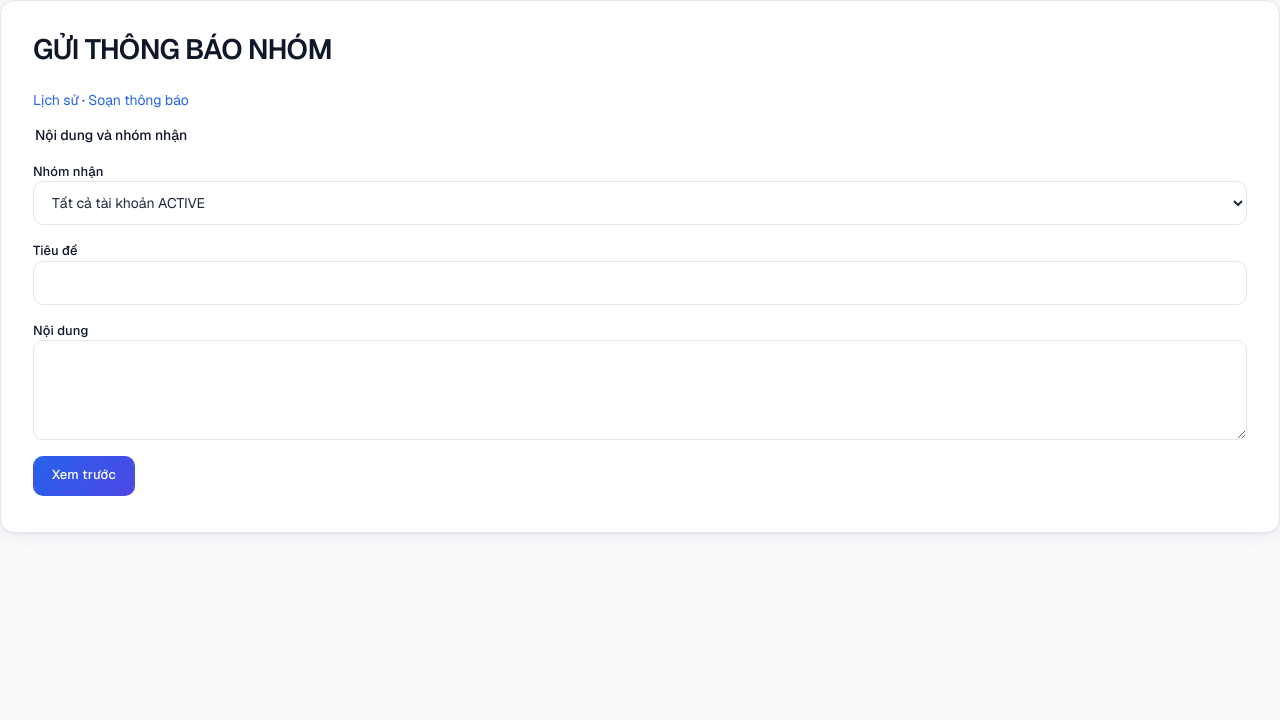
Test: US-48: giao diện preview/confirm/resolve › chặn gửi hết hạn
Type "<b>Lịch</b>" into the field labelled "Tiêu đề" at coordinates (640, 283), box [33,261,1247,305]
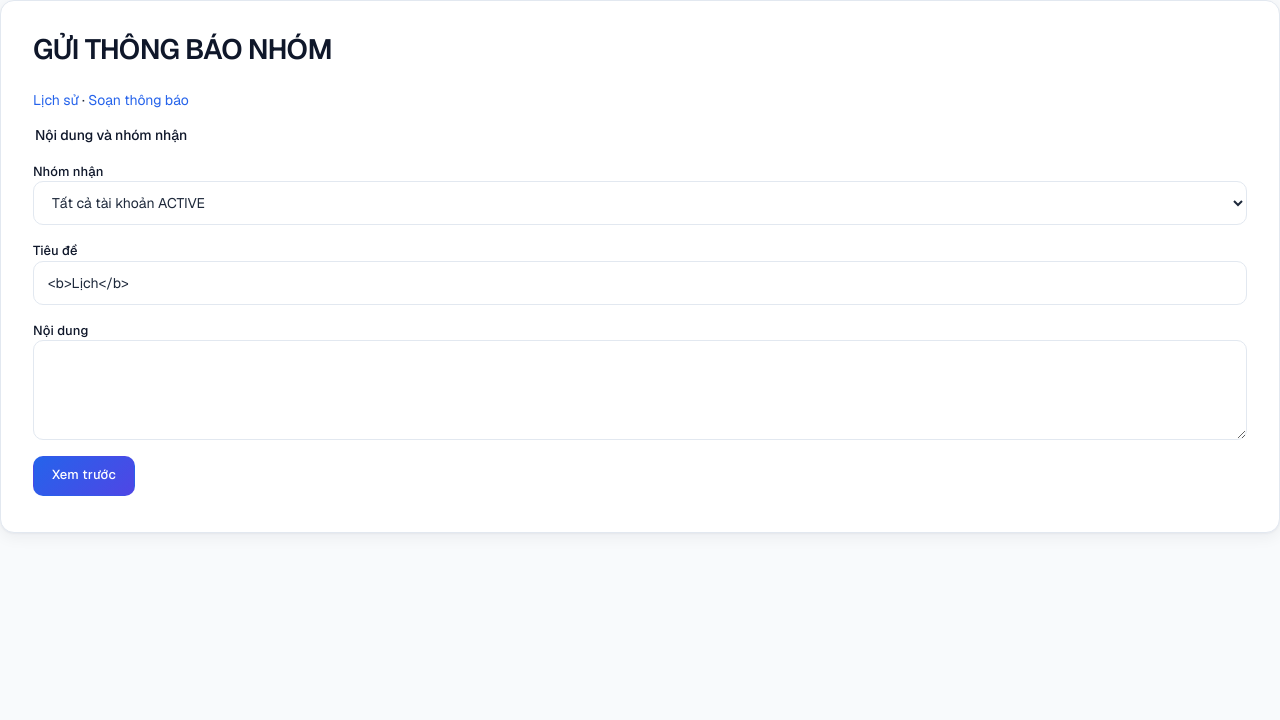
Type "<script>bad()</script>" into the text box labelled "Nội dung" at coordinates (640, 390), box [33,340,1247,440]
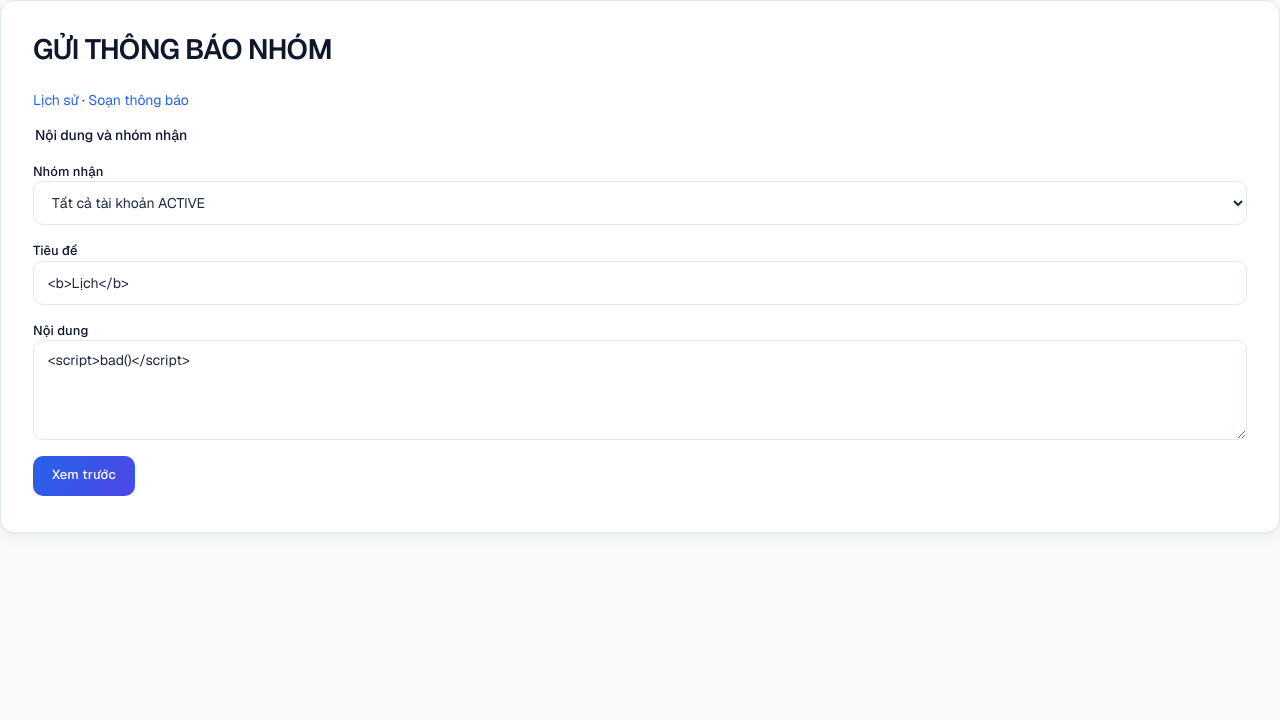
Click the button "Xem trước" at coordinates (84, 476), box [33,456,135,496]
(page scrolled)
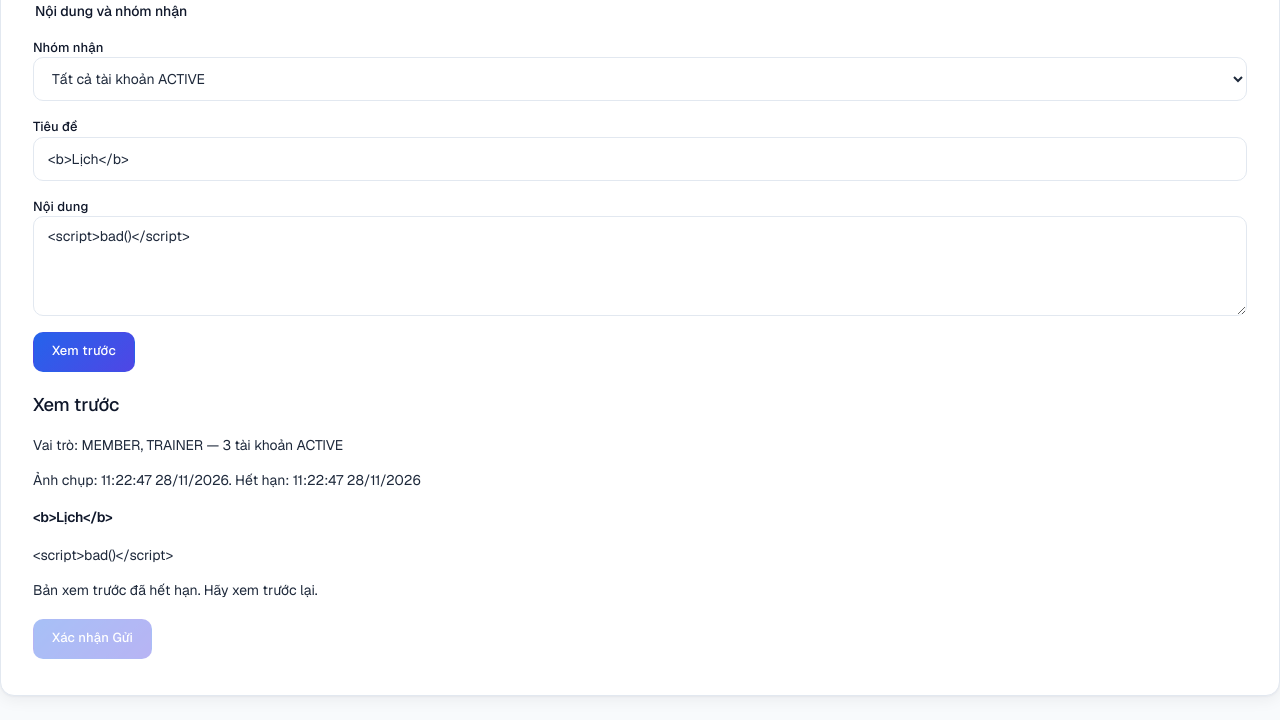
Now the button "Xác nhận Gửi" is disabled, box [33,619,152,659]
